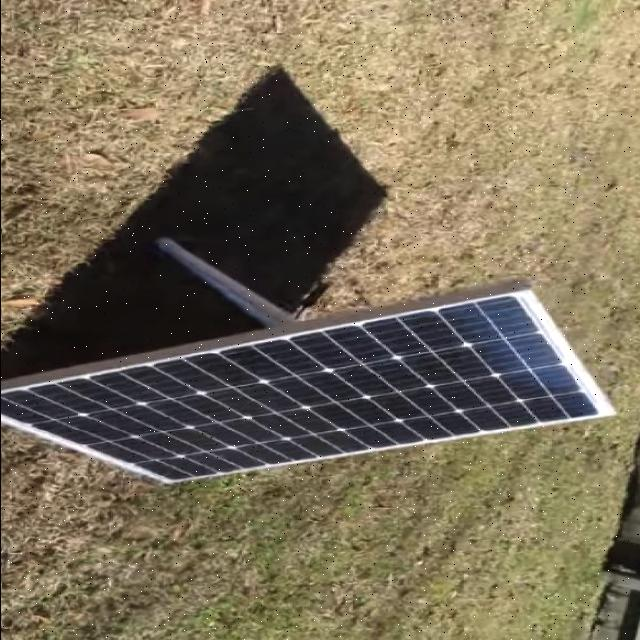Normal Solar Panel: (0, 284, 614, 485)
